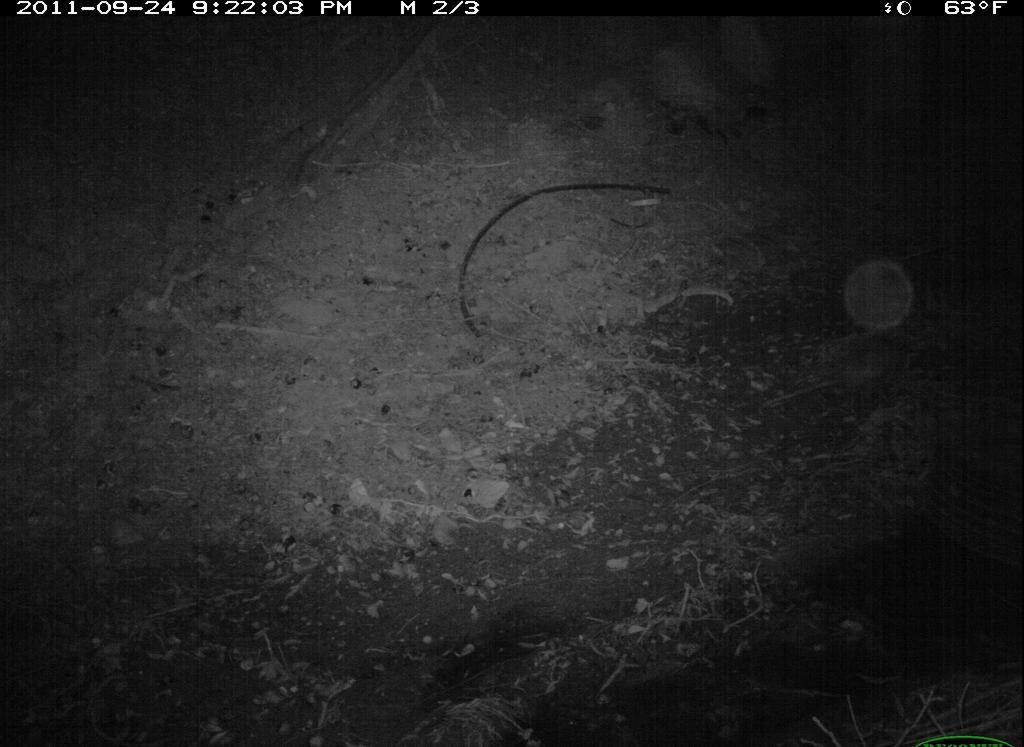opossum: (765, 330, 917, 417)
